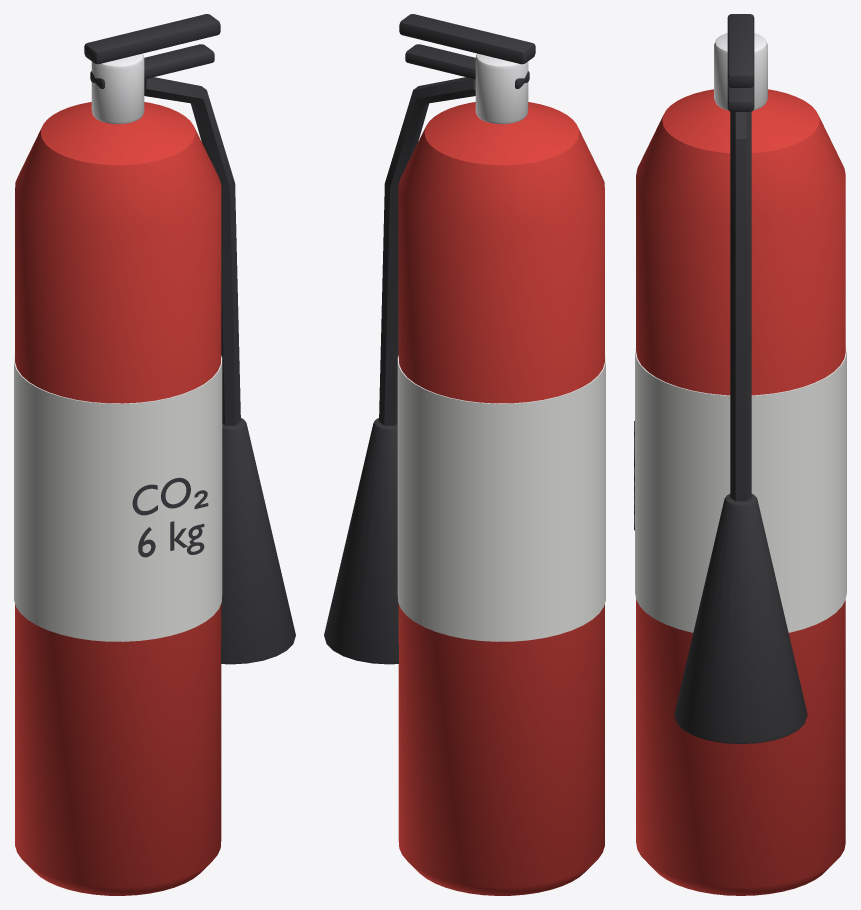
Rendered from HID-INC-006_anim.glb.
The picture shows the model from 3 angles, left to right: view 1: azimuth 30°, elevation 25°; view 2: azimuth 150°, elevation 25°; view 3: azimuth 270°, elevation 25°; orthographic projection.
Visible parts, largest first — view 1: HID-INC-006_anim0; view 2: HID-INC-006_anim0; view 3: HID-INC-006_anim0.
Boxes of the visible parts, left/top/right/bottom form: HID-INC-006_anim0: left=14, top=14, right=295, bottom=895; HID-INC-006_anim0: left=324, top=14, right=605, bottom=895; HID-INC-006_anim0: left=634, top=14, right=846, bottom=895.
Bounding box in the file's own units: 0.2264 × 0.682 × 0.1583.
